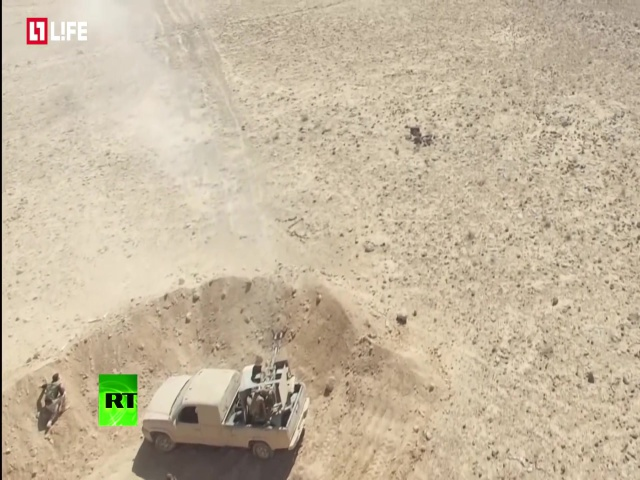person: (38, 371, 66, 431)
vehicle: (141, 365, 309, 455)
